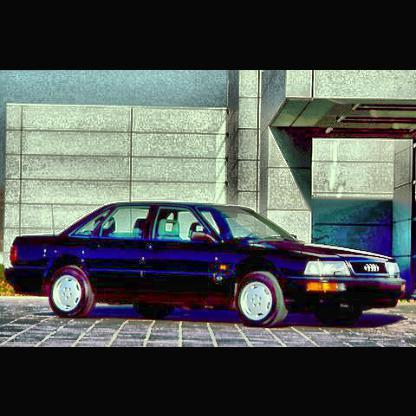Audi V8 Sedan 1994: (9, 201, 412, 330)
